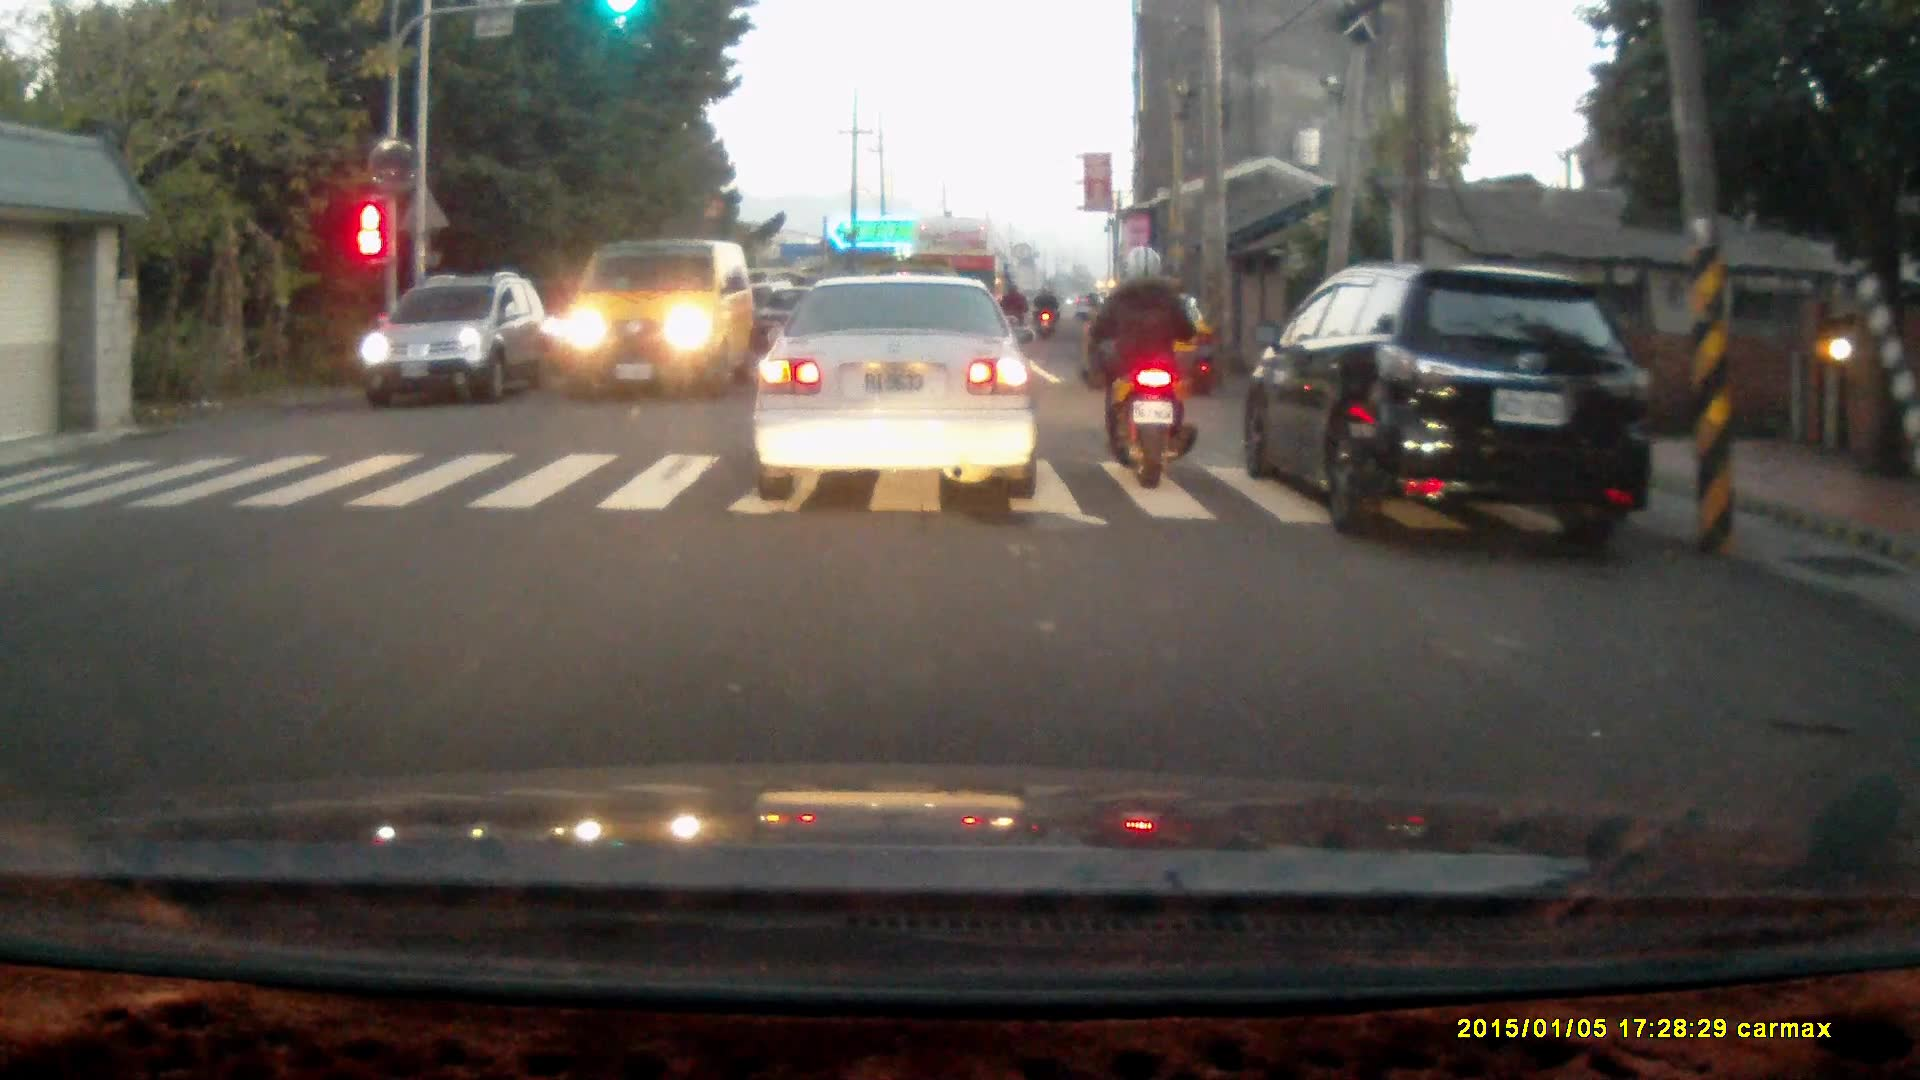rider: (1084, 240, 1196, 489)
vehicle: (1250, 262, 1657, 539), (753, 269, 1044, 503), (556, 242, 754, 410), (360, 272, 548, 402), (1084, 291, 1216, 407), (908, 221, 1014, 352)
